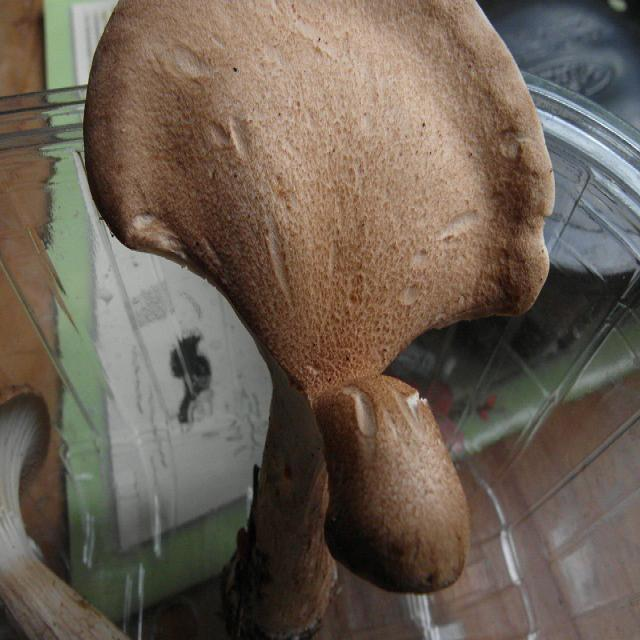Clitocybe maxima: (83, 1, 550, 640), (0, 383, 127, 635)
